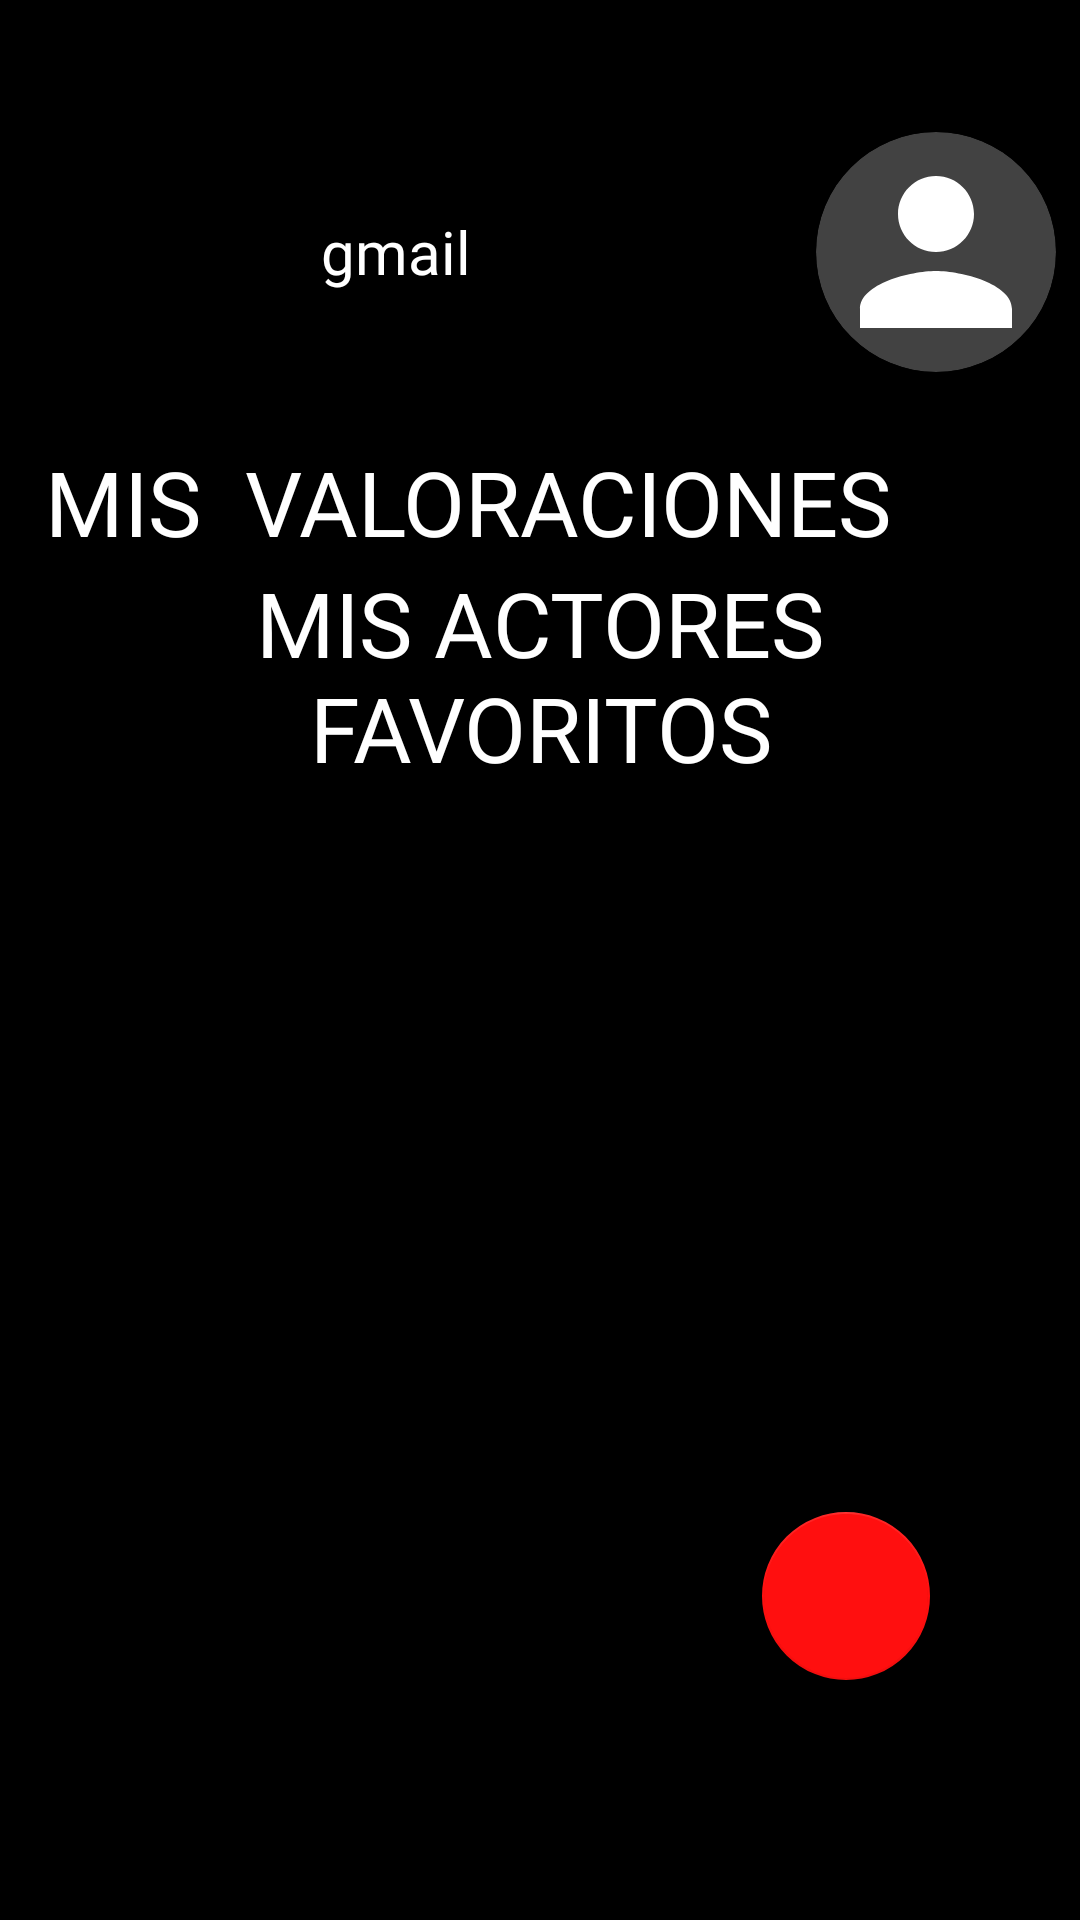

Named icons in this screenshot (1080 × 1920) and their centers, (x,y):
iconoperfil: (936,252)
